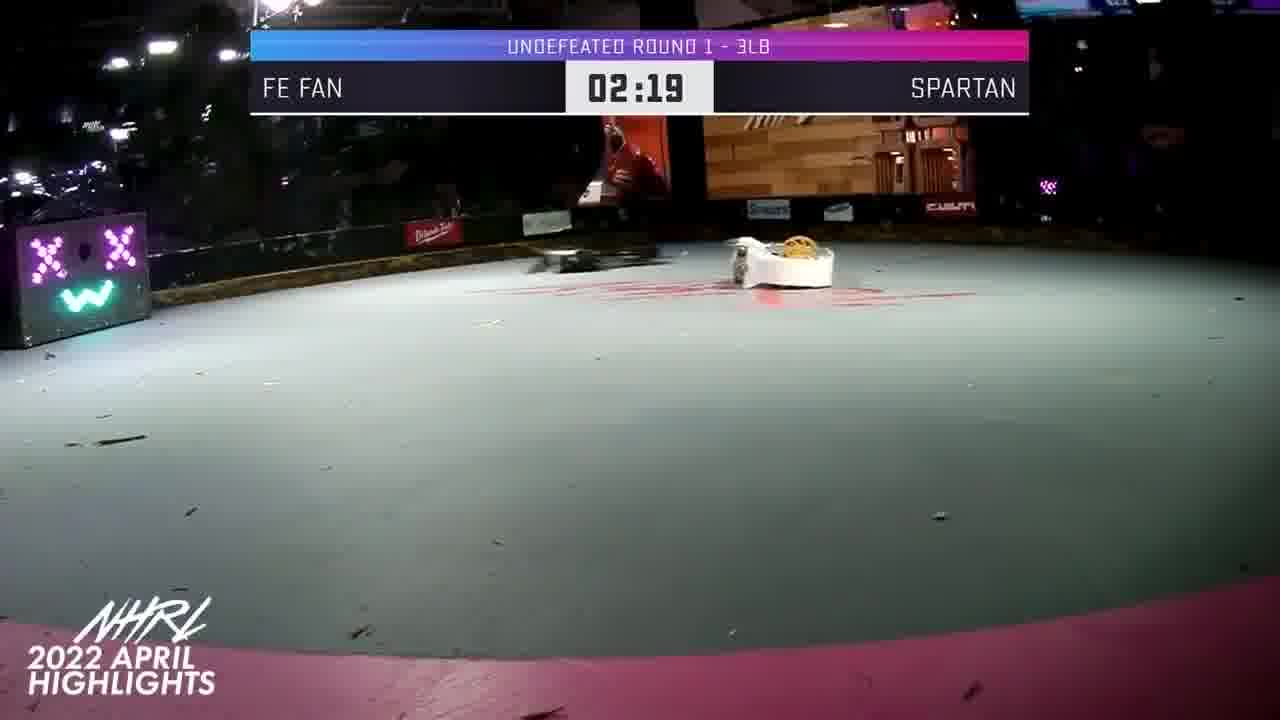combatbot: (517, 233, 662, 273), (734, 236, 837, 290)
housebot: (0, 210, 157, 349)
